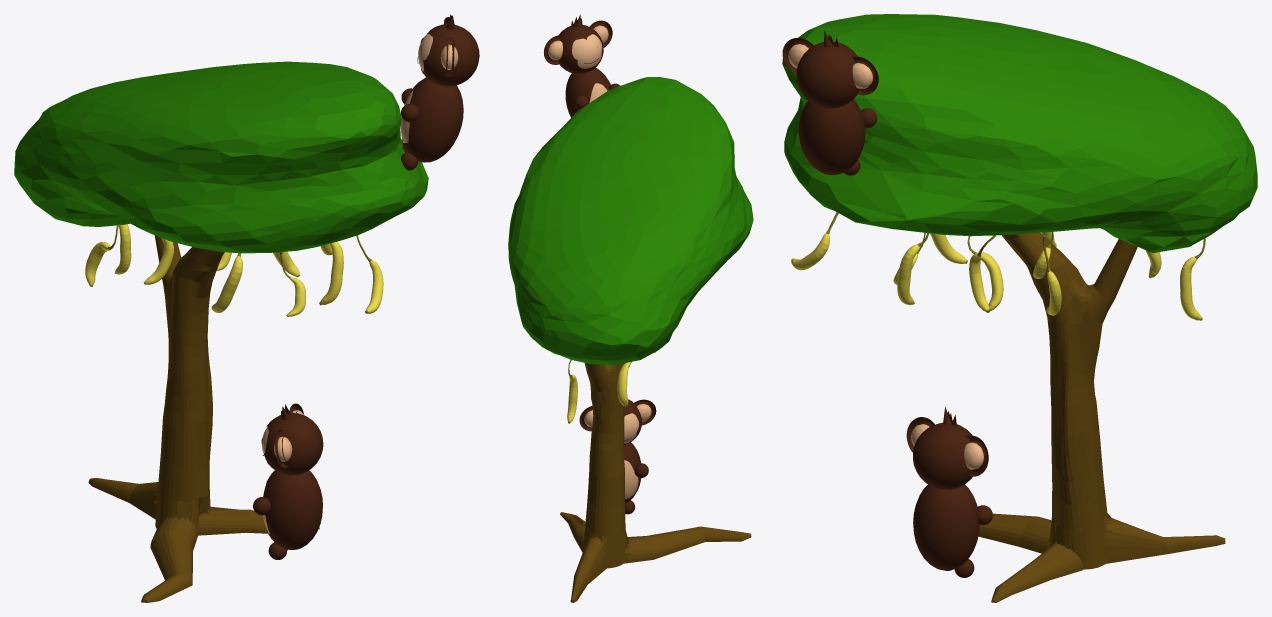
Rendered from banana_tree-2_monkeys.fbx.
3 renders of one model, left to right at view 1: azimuth 30°, elevation 25°; view 2: azimuth 150°, elevation 25°; view 3: azimuth 270°, elevation 25°, orthographic. The views are drawn at different scales.
Parts seen in each view (by area): view 1: Sphere.012; view 2: Sphere.012; view 3: Sphere.012.
Boxes of the visible parts, box(x1,y1,x2,y2) form: Sphere.012: box(14, 14, 479, 602); Sphere.012: box(508, 14, 753, 602); Sphere.012: box(782, 14, 1257, 602).
Bounding box in the file's own units: 1118 × 2007 × 1424.
